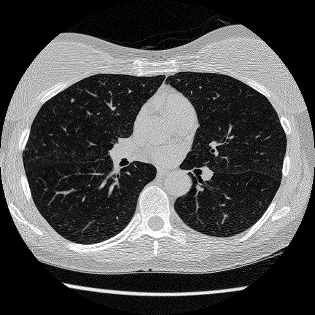nodule: (70, 98, 74, 102)
